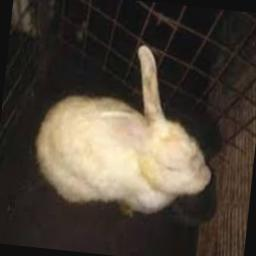rabbit: (34, 44, 210, 213)
